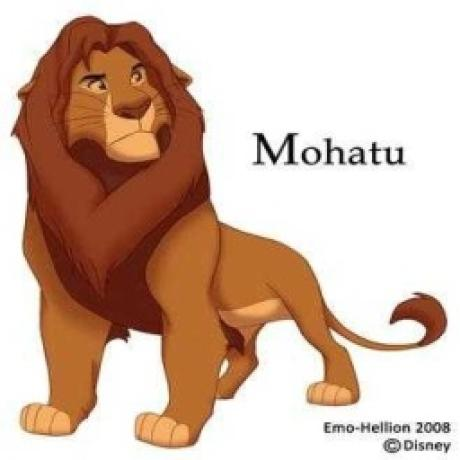Lion: (9, 15, 362, 451)
